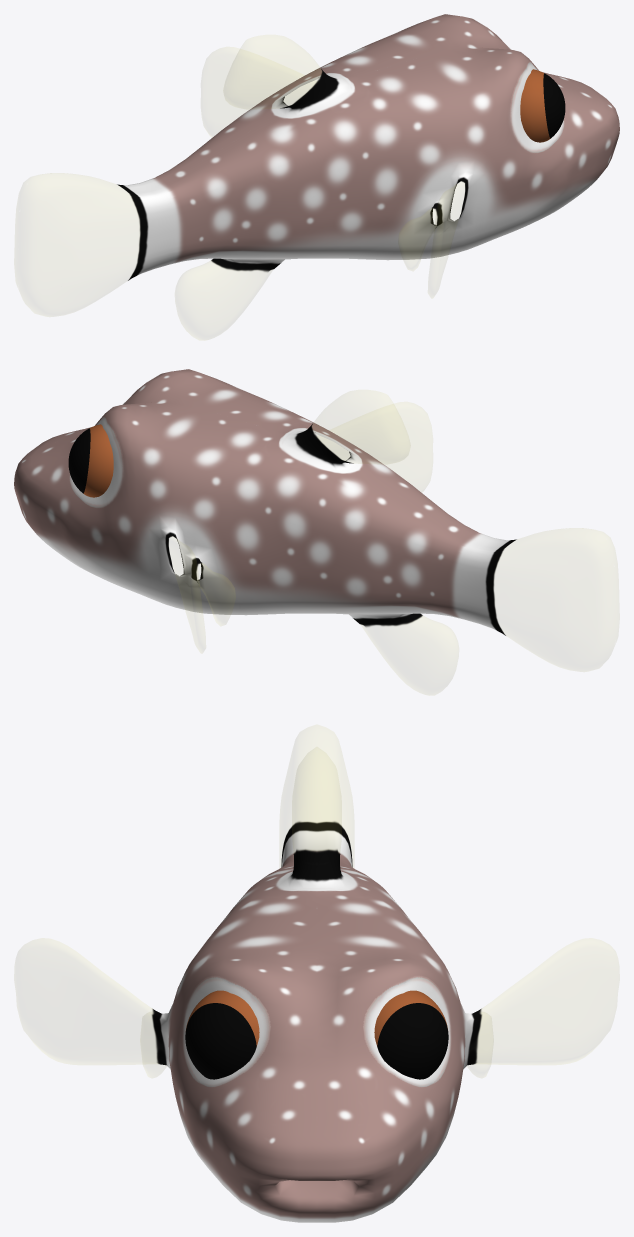
The model's file is puffy.gltf.
The picture shows the model from 3 angles, top to bottom: view 1: azimuth 30°, elevation 25°; view 2: azimuth 150°, elevation 25°; view 3: azimuth 270°, elevation 25°; orthographic projection. The views are drawn at different scales.
Visible parts, largest first — view 1: Puffy; view 2: Puffy; view 3: Puffy.
Boxes of the visible parts, x1,y1,x2,y2 form: Puffy: [51, 14, 619, 280]; Puffy: [14, 369, 582, 635]; Puffy: [140, 747, 493, 1222].
Size of the model in its own units: 7.94 by 3.75 by 5.5.
Materials: 1 (1 with a texture image).
